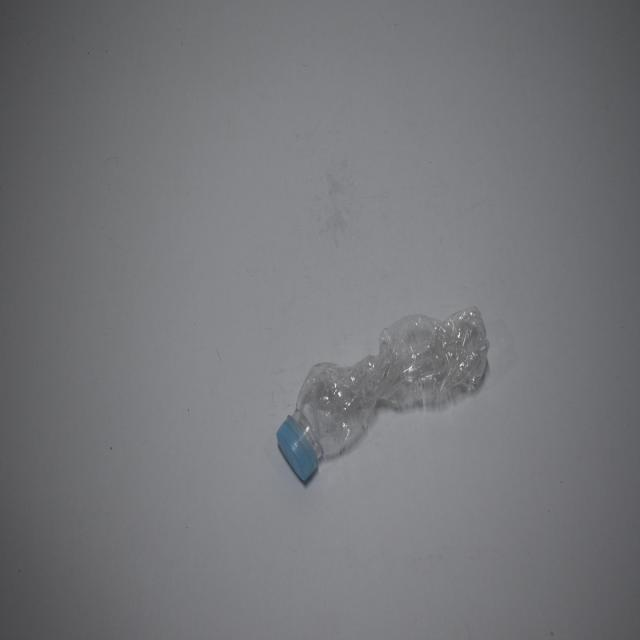bottle: (267, 290, 498, 505)
